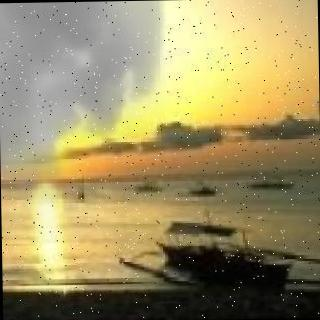smoke: (0, 0, 199, 205)
